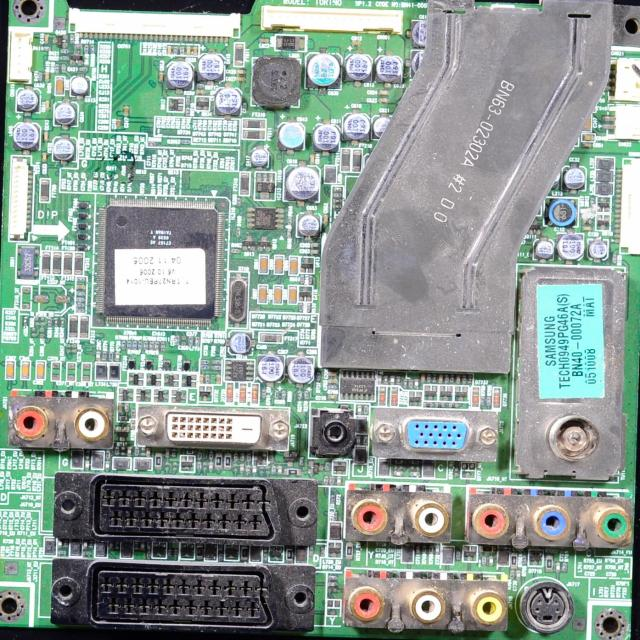Capacitor Jumper: (309, 54, 337, 85), (288, 169, 318, 196), (168, 63, 192, 86), (282, 123, 306, 146), (202, 56, 224, 80), (560, 235, 582, 258), (292, 359, 316, 380), (218, 90, 240, 112), (348, 116, 369, 138), (260, 356, 282, 377), (380, 59, 401, 80), (564, 168, 585, 188), (232, 332, 253, 352), (317, 126, 337, 146), (350, 55, 369, 76), (18, 91, 37, 110), (17, 124, 35, 144), (57, 104, 75, 122), (300, 216, 318, 233), (72, 77, 88, 95), (56, 138, 71, 156), (537, 240, 551, 258), (591, 240, 605, 256), (252, 150, 267, 162), (376, 114, 384, 135), (56, 76, 64, 94), (8, 360, 15, 378), (259, 286, 266, 302), (260, 257, 267, 271), (276, 258, 283, 272), (37, 362, 43, 378), (275, 286, 281, 301), (288, 288, 294, 302), (583, 132, 593, 140), (23, 362, 28, 378), (584, 118, 590, 130), (290, 261, 296, 273), (584, 222, 591, 232), (380, 88, 388, 95), (35, 296, 44, 302), (583, 142, 593, 147), (603, 116, 615, 120), (44, 130, 48, 140), (58, 296, 68, 300), (124, 107, 128, 116), (329, 395, 336, 400), (187, 45, 190, 56), (194, 46, 198, 54), (378, 98, 386, 102), (310, 154, 314, 162), (260, 38, 268, 42), (235, 71, 245, 74), (196, 89, 202, 94), (159, 73, 163, 80), (77, 284, 84, 288), (188, 337, 192, 344), (329, 378, 336, 382), (234, 77, 243, 80), (604, 125, 613, 128), (43, 153, 46, 162), (176, 335, 179, 344), (217, 375, 220, 384), (436, 546, 439, 554), (46, 35, 49, 43), (353, 42, 361, 45), (46, 72, 49, 79), (312, 244, 319, 247), (197, 337, 200, 344), (118, 118, 120, 128), (168, 45, 170, 54), (556, 564, 559, 570), (324, 215, 327, 221), (313, 250, 319, 253), (418, 546, 420, 554), (518, 572, 520, 579), (440, 374, 442, 381), (330, 373, 336, 375), (422, 374, 424, 380), (200, 374, 202, 380), (457, 376, 459, 381)
IC: (105, 203, 222, 321), (342, 372, 372, 398), (252, 210, 279, 226), (228, 360, 248, 380), (258, 174, 274, 198), (278, 36, 300, 49)
Resistor Jumper: (196, 544, 202, 559), (348, 542, 352, 558), (323, 476, 329, 485), (547, 557, 551, 570), (486, 398, 491, 407), (156, 455, 160, 465), (180, 46, 184, 56), (288, 548, 292, 558), (54, 64, 59, 72), (336, 193, 344, 198), (215, 455, 219, 464), (73, 45, 82, 49), (226, 457, 230, 465), (422, 546, 426, 554), (24, 318, 28, 326), (289, 470, 299, 473), (482, 556, 487, 562), (481, 396, 484, 406), (61, 49, 68, 53), (513, 558, 517, 565), (38, 73, 42, 80), (182, 140, 189, 144), (334, 199, 341, 203), (150, 342, 154, 349), (96, 352, 100, 359), (212, 360, 219, 364), (212, 366, 219, 370), (91, 44, 94, 53), (309, 275, 312, 284), (42, 47, 50, 50), (85, 45, 88, 53), (334, 187, 340, 191), (334, 206, 340, 210), (299, 276, 303, 282), (138, 342, 142, 348), (144, 342, 148, 348), (162, 343, 166, 349), (70, 36, 74, 42), (275, 390, 278, 398), (304, 392, 308, 398), (103, 352, 106, 359), (109, 353, 112, 360), (147, 142, 152, 146), (332, 494, 334, 503), (186, 97, 189, 103), (78, 278, 84, 281), (48, 318, 51, 324), (54, 320, 57, 326), (156, 343, 159, 349), (469, 376, 472, 382), (463, 376, 466, 382), (283, 391, 286, 397), (430, 545, 432, 553), (60, 58, 68, 60), (62, 64, 64, 72), (300, 303, 302, 311), (134, 341, 136, 349), (128, 341, 130, 349), (490, 558, 493, 563), (78, 292, 83, 295), (202, 366, 207, 369), (523, 556, 525, 563), (564, 563, 566, 570), (122, 341, 124, 348), (434, 374, 436, 381), (330, 386, 337, 388), (298, 391, 300, 398), (330, 478, 332, 484), (511, 572, 513, 578), (77, 298, 83, 300), (77, 304, 83, 306), (308, 304, 310, 310), (61, 319, 63, 325), (428, 374, 430, 380), (78, 309, 83, 311), (202, 361, 207, 363), (452, 375, 454, 380), (446, 376, 448, 381), (175, 47, 176, 53), (187, 108, 188, 114)
Transistor: (308, 462, 324, 476), (244, 236, 256, 254), (300, 258, 314, 273), (130, 372, 144, 386), (53, 35, 68, 48), (270, 546, 282, 562), (596, 216, 610, 229), (171, 389, 186, 401), (456, 387, 468, 401), (409, 391, 421, 405), (284, 453, 296, 466), (170, 98, 182, 111), (598, 198, 610, 211), (154, 542, 165, 556), (300, 286, 311, 300), (329, 542, 339, 557), (197, 98, 209, 110), (147, 374, 159, 386), (441, 387, 452, 400), (138, 389, 151, 400), (425, 384, 435, 398), (225, 546, 236, 558), (464, 547, 475, 559), (259, 238, 270, 250), (182, 458, 192, 471), (72, 52, 82, 65), (166, 374, 179, 384), (183, 376, 195, 386), (155, 390, 167, 400), (199, 388, 210, 398), (120, 391, 132, 400), (334, 461, 343, 472)
